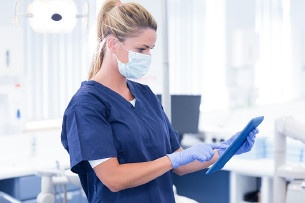Mask: (123, 39, 162, 78)
